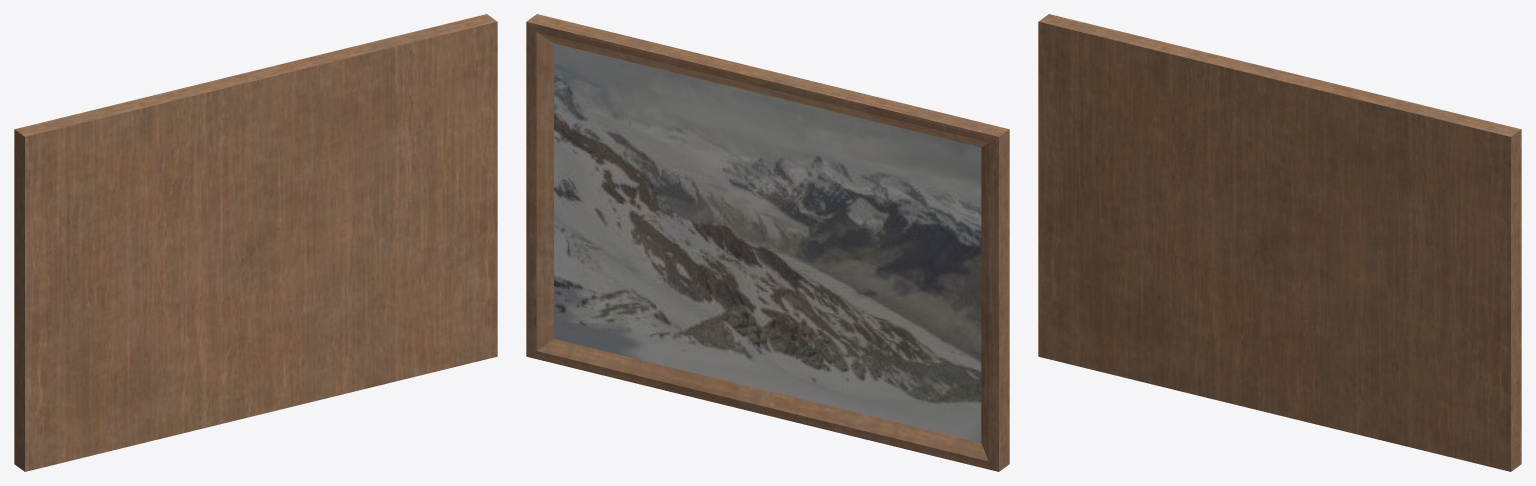
File: Paintings_03-col.glb
3 renders of one model, left to right at view 1: azimuth 30°, elevation 25°; view 2: azimuth 150°, elevation 25°; view 3: azimuth 330°, elevation 25°, orthographic.
Parts seen in each view (by area): view 1: Paintings_03-col; view 2: Paintings_03-col; view 3: Paintings_03-col.
Boxes of the visible parts, <box> form: Paintings_03-col: <box>14,14,497,471</box>; Paintings_03-col: <box>526,14,1009,471</box>; Paintings_03-col: <box>1038,14,1521,471</box>.
Bounding box in the file's own units: 1.31 × 0.884 × 0.0505.
2 materials, 2 textured.
